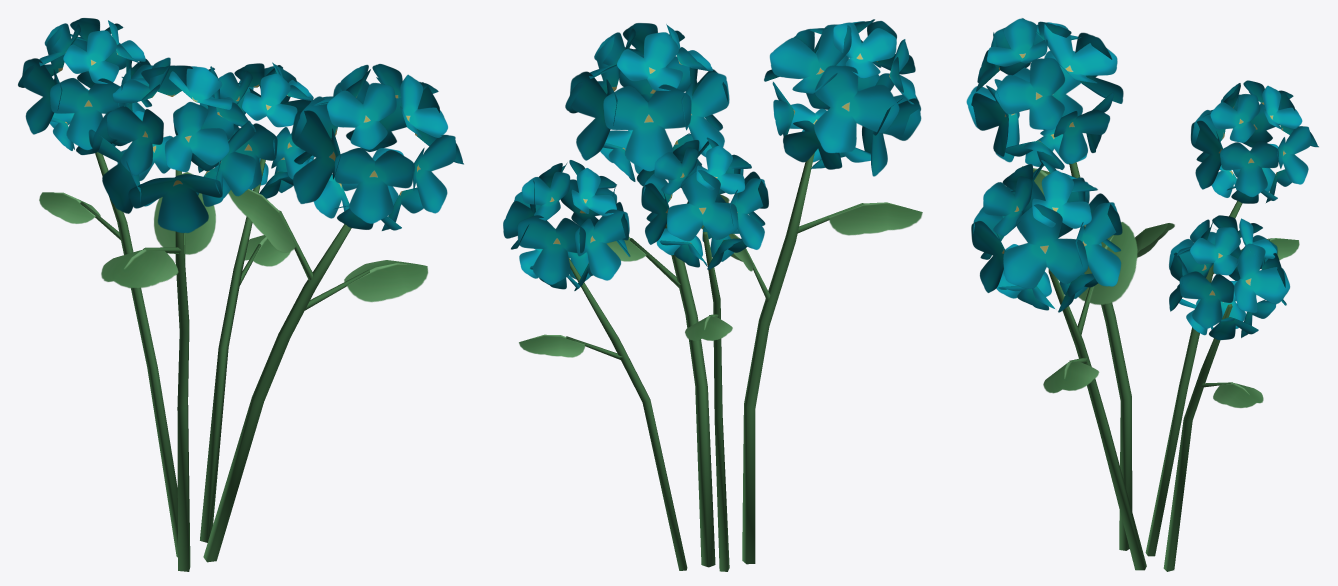
The model's file is flower_usn_flower_1_clump.glb.
3 views of the same model, side by side, from view 1: azimuth 30°, elevation 25°; view 2: azimuth 150°, elevation 25°; view 3: azimuth 270°, elevation 25° (orthographic). The views are drawn at different scales.
Visible parts, largest first — view 1: Flower_1_Clump; view 2: Flower_1_Clump; view 3: Flower_1_Clump.
Part boxes in pixels (bbox=[...]): Flower_1_Clump: bbox=[18, 18, 463, 571]; Flower_1_Clump: bbox=[503, 19, 922, 571]; Flower_1_Clump: bbox=[966, 18, 1318, 571].
Size of the model in its own units: 0.386 by 0.55 by 0.3565.
Materials: 1 (1 with a texture image).
